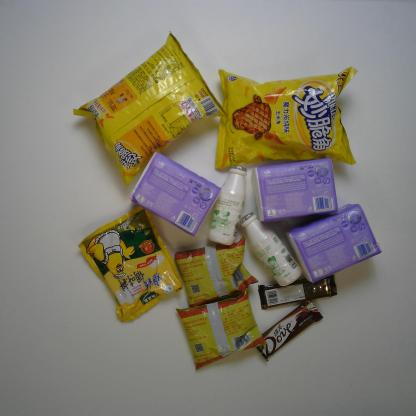Chocolate: (251, 299, 327, 362), (256, 273, 340, 311)
Milk: (238, 209, 308, 290), (206, 160, 250, 247)
Puffed Food: (66, 29, 228, 187), (208, 64, 371, 171)
Seasoner: (75, 204, 188, 328), (175, 293, 267, 373), (172, 236, 262, 312)
Tissue: (279, 203, 385, 285), (129, 149, 223, 240), (250, 154, 344, 221)
